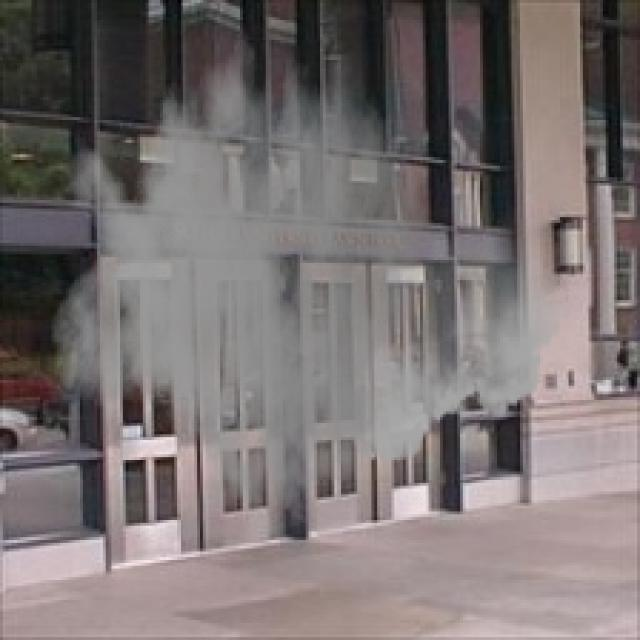Smoke: (49, 2, 568, 528)
